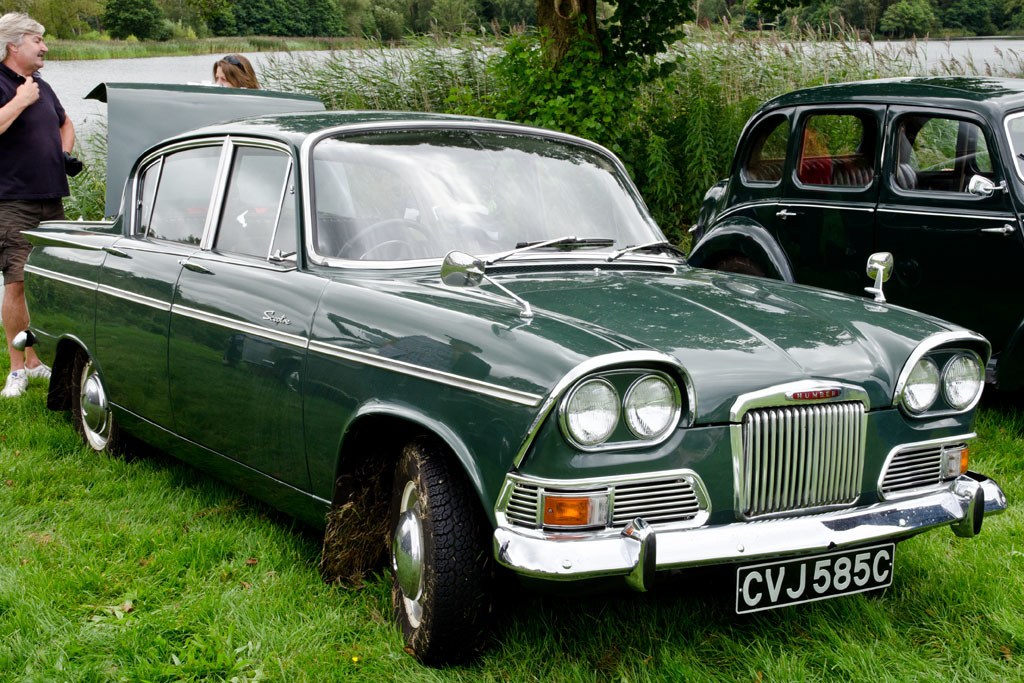Car: (69, 132, 992, 652), (688, 74, 1022, 406)
